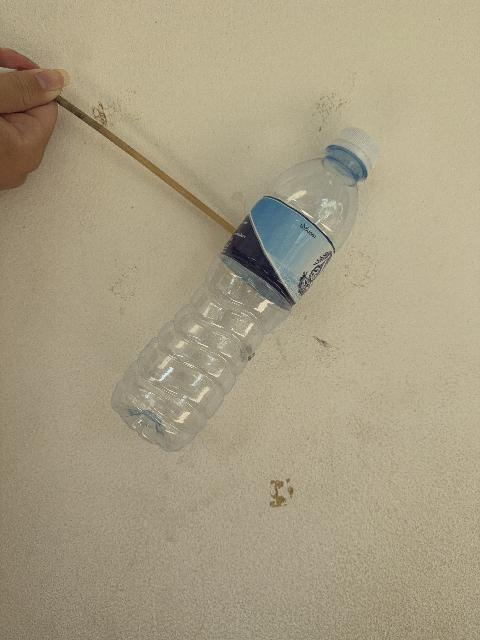bottle: (112, 128, 379, 451)
